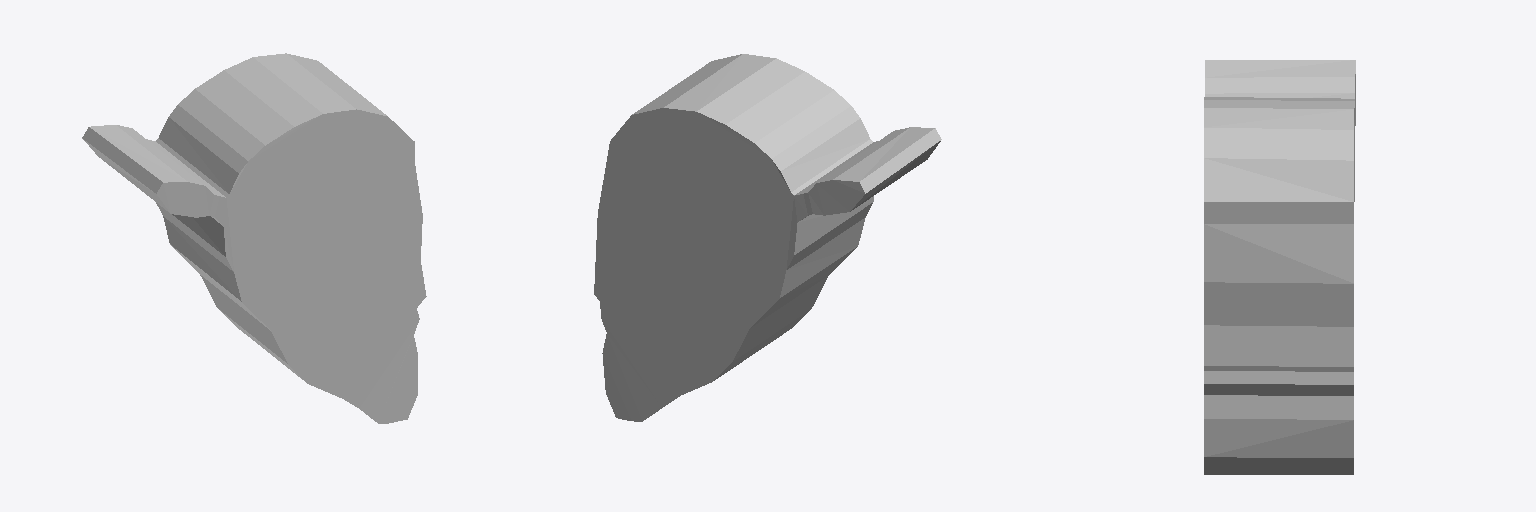
File: SamuraiHead.obj
The picture shows the model from 3 angles: view 1: azimuth 30°, elevation 25°; view 2: azimuth 150°, elevation 25°; view 3: azimuth 270°, elevation 25°; orthographic projection.
Parts seen in each view (by area): view 1: Cube.001_Cube.002; view 2: Cube.001_Cube.002; view 3: Cube.001_Cube.002.
Boxes of the visible parts, box(x1,y1,x2,y2) form: Cube.001_Cube.002: box(82, 53, 426, 423); Cube.001_Cube.002: box(594, 54, 941, 421); Cube.001_Cube.002: box(1204, 60, 1355, 474).
Bounding box in the file's own units: 0.5676 × 0.6476 × 0.2742.